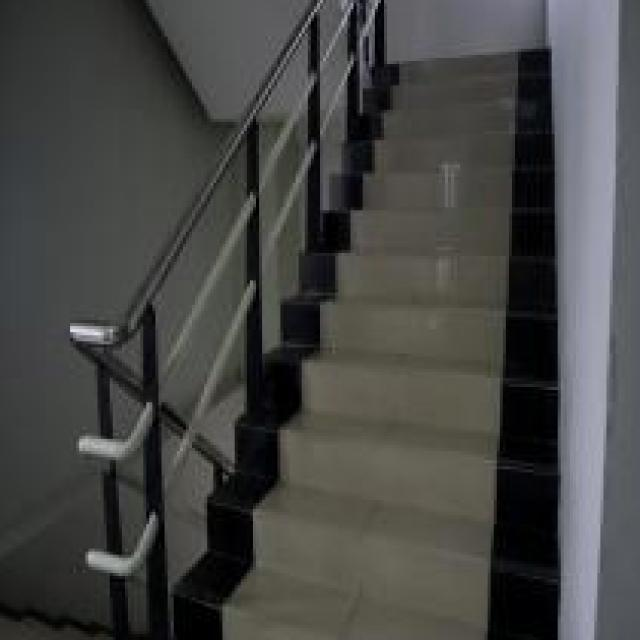upstair: (373, 46, 568, 640)
